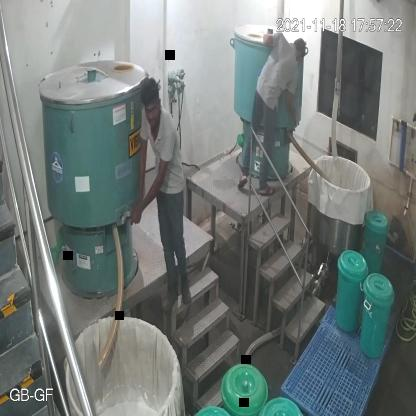no_glove: (136, 153, 171, 229)
no_shoes: (258, 184, 276, 198)
shoes: (178, 275, 192, 308)
